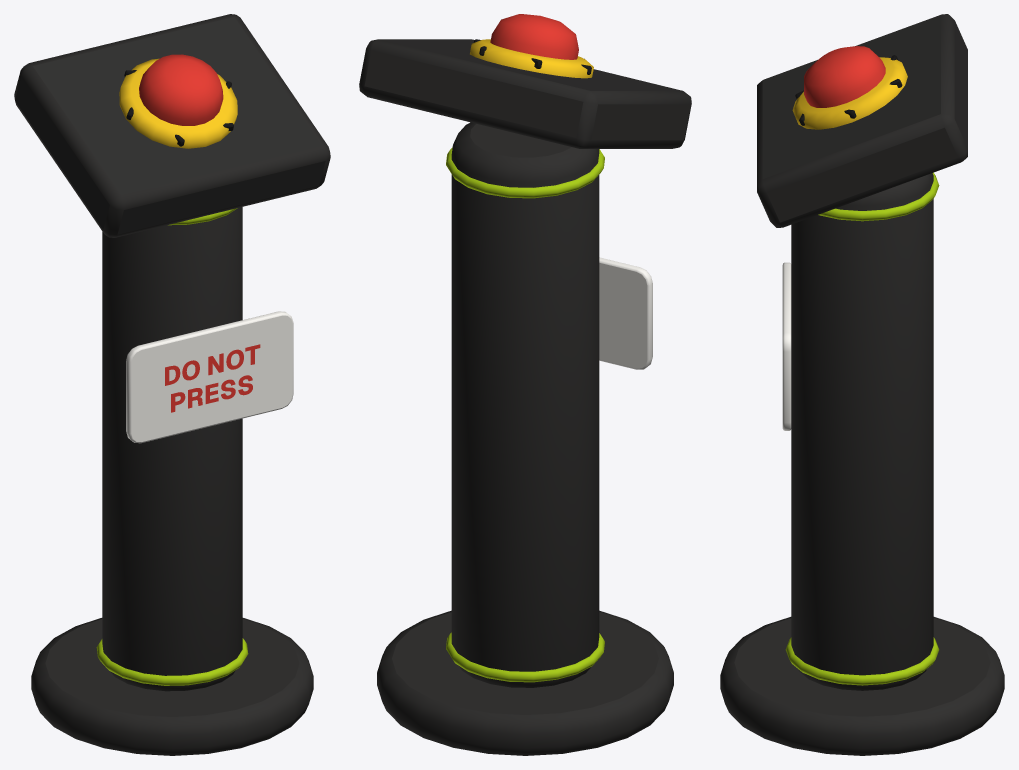
Rendered from do-not-press.glb.
The picture shows the model from 3 angles, left to right: view 1: azimuth 30°, elevation 25°; view 2: azimuth 150°, elevation 25°; view 3: azimuth 270°, elevation 25°; orthographic projection. The views are drawn at different scales.
Visible parts, largest first — view 1: do-not-press-root, do-not-press-button; view 2: do-not-press-root, do-not-press-button; view 3: do-not-press-root, do-not-press-button.
Part boxes in pixels (<box>): do-not-press-root: <box>14,14,330,755</box>; do-not-press-button: <box>139,54,223,125</box>; do-not-press-root: <box>359,39,691,755</box>; do-not-press-button: <box>490,14,578,59</box>; do-not-press-root: <box>720,14,1004,755</box>; do-not-press-button: <box>804,46,885,107</box>.
Size of the model in its own units: 0.4 by 1.01 by 0.4.
